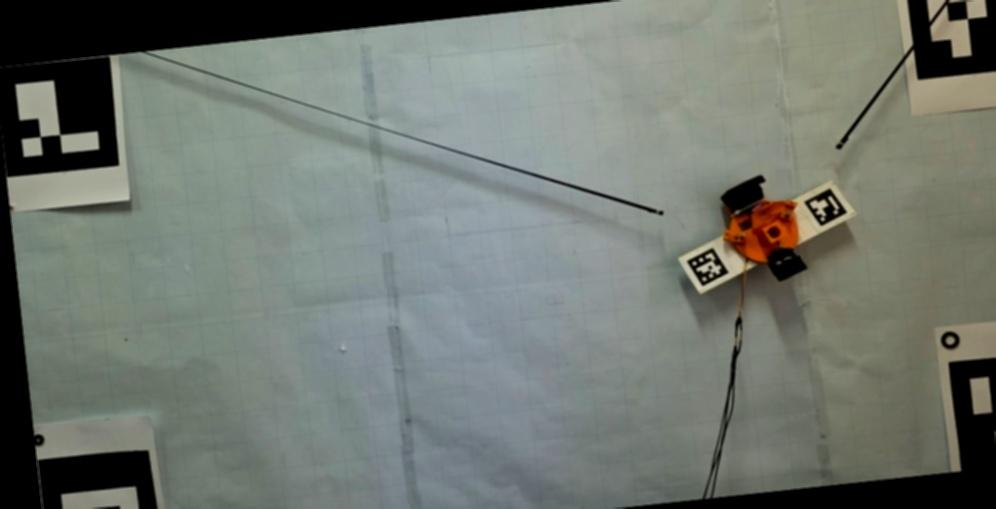robot: (719, 175, 808, 282)
